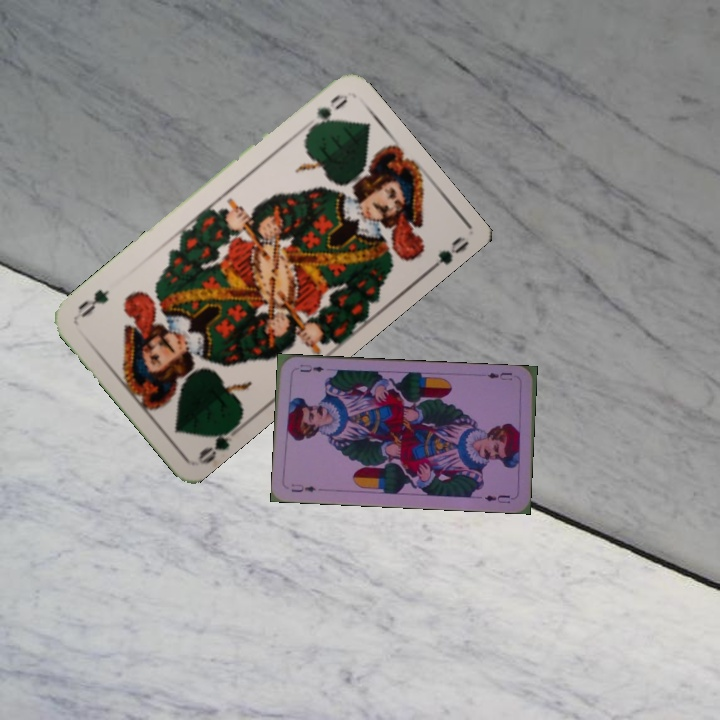EU: (483, 368, 520, 383), (287, 480, 318, 495)
GO: (194, 420, 245, 467), (302, 90, 346, 138)
